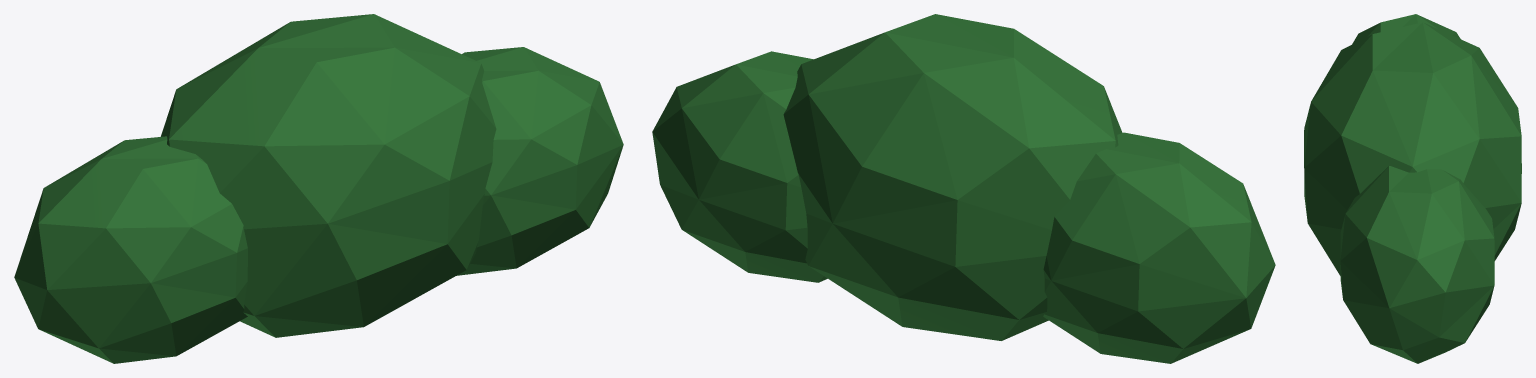
The model's file is bush1.fbx.
3 views of the same model, side by side, from view 1: azimuth 30°, elevation 25°; view 2: azimuth 150°, elevation 25°; view 3: azimuth 270°, elevation 25° (orthographic). The views are drawn at different scales.
Visible parts, largest first — view 1: shrub_round__6_, shrub_round__8_, shrub_round__7_; view 2: shrub_round__6_, shrub_round__8_, shrub_round__7_; view 3: shrub_round__6_, shrub_round__7_, shrub_round__8_.
Part boxes in pixels (bbox=[...]): shrub_round__6_: bbox=[160, 14, 496, 337]; shrub_round__8_: bbox=[14, 136, 247, 363]; shrub_round__7_: bbox=[456, 47, 623, 275]; shrub_round__6_: bbox=[783, 14, 1122, 340]; shrub_round__8_: bbox=[1043, 132, 1275, 363]; shrub_round__7_: bbox=[652, 51, 827, 282]; shrub_round__6_: bbox=[1304, 22, 1521, 275]; shrub_round__7_: bbox=[1340, 166, 1494, 363]; shrub_round__8_: bbox=[1352, 14, 1460, 44].
Bounding box in the file's own units: 455 × 207 × 172.
